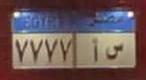7: (29, 38, 44, 64), (59, 37, 73, 64), (45, 37, 58, 64), (15, 37, 28, 64)
alif: (91, 36, 102, 64)
seen: (105, 40, 125, 62)
